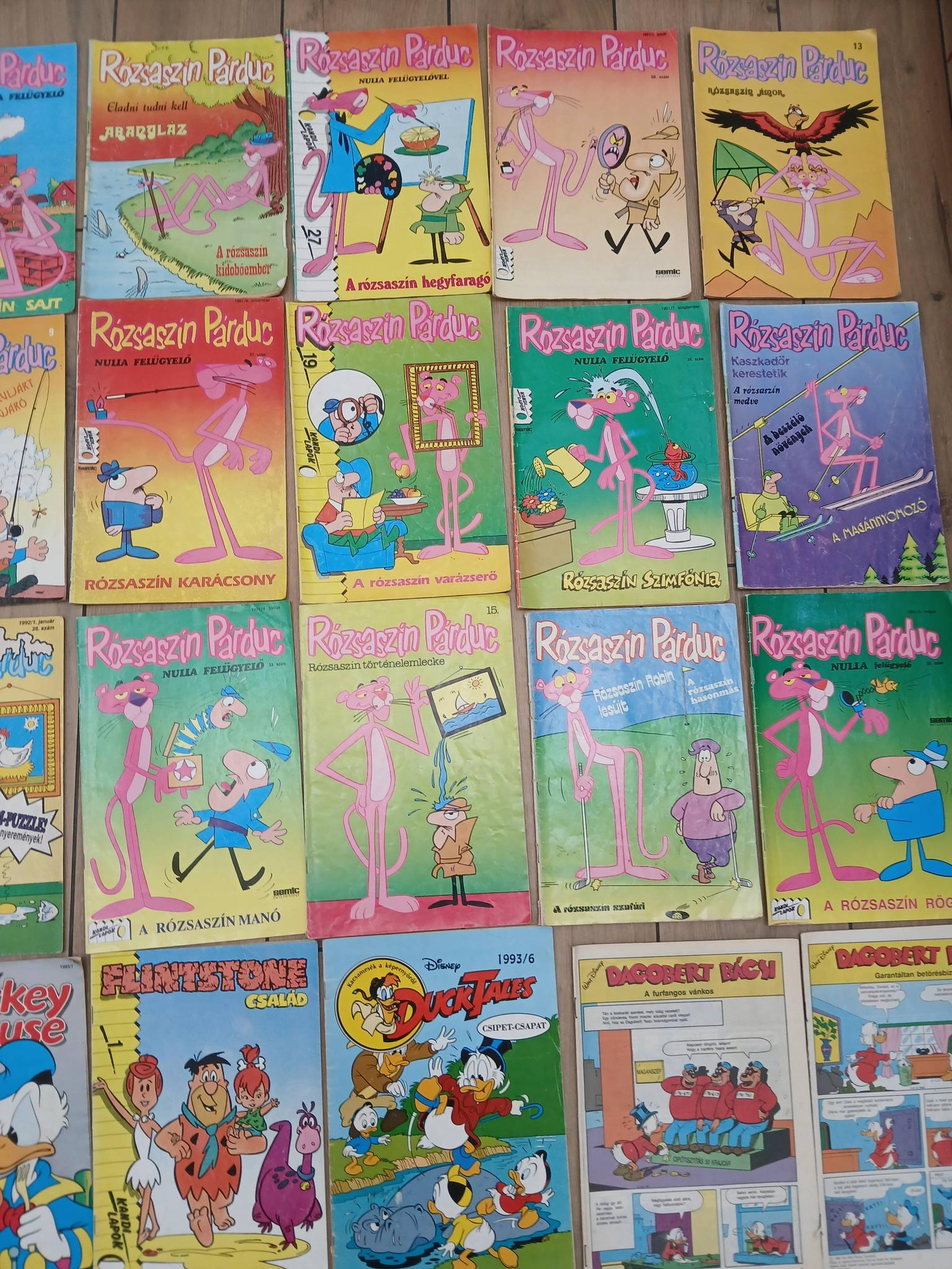comic: (319, 926, 574, 1269), (572, 938, 821, 1269), (292, 594, 531, 938), (521, 597, 763, 934), (77, 601, 306, 949), (90, 941, 327, 1269), (719, 290, 949, 598), (286, 293, 510, 608), (747, 588, 952, 925), (506, 301, 728, 610), (71, 299, 286, 604), (690, 18, 900, 309), (487, 22, 691, 303), (287, 25, 491, 301), (81, 35, 288, 299)
